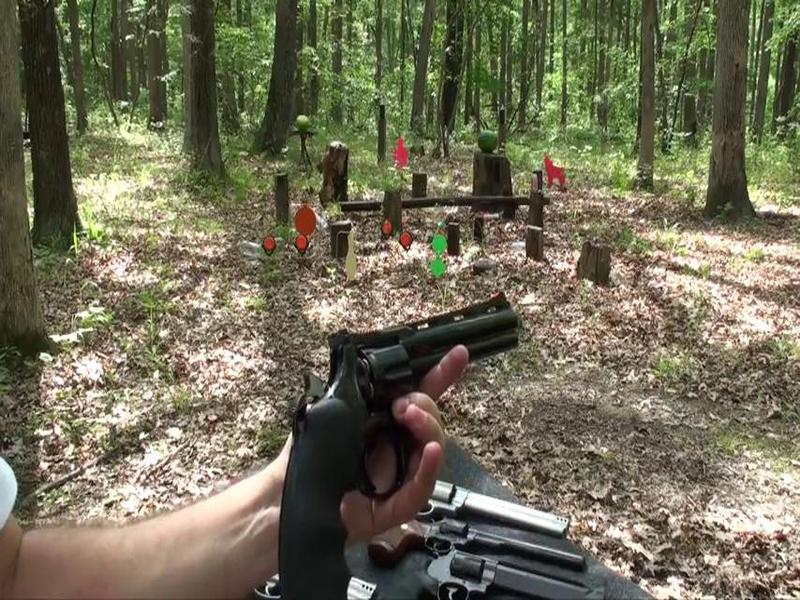Revolver: (257, 281, 530, 600)
